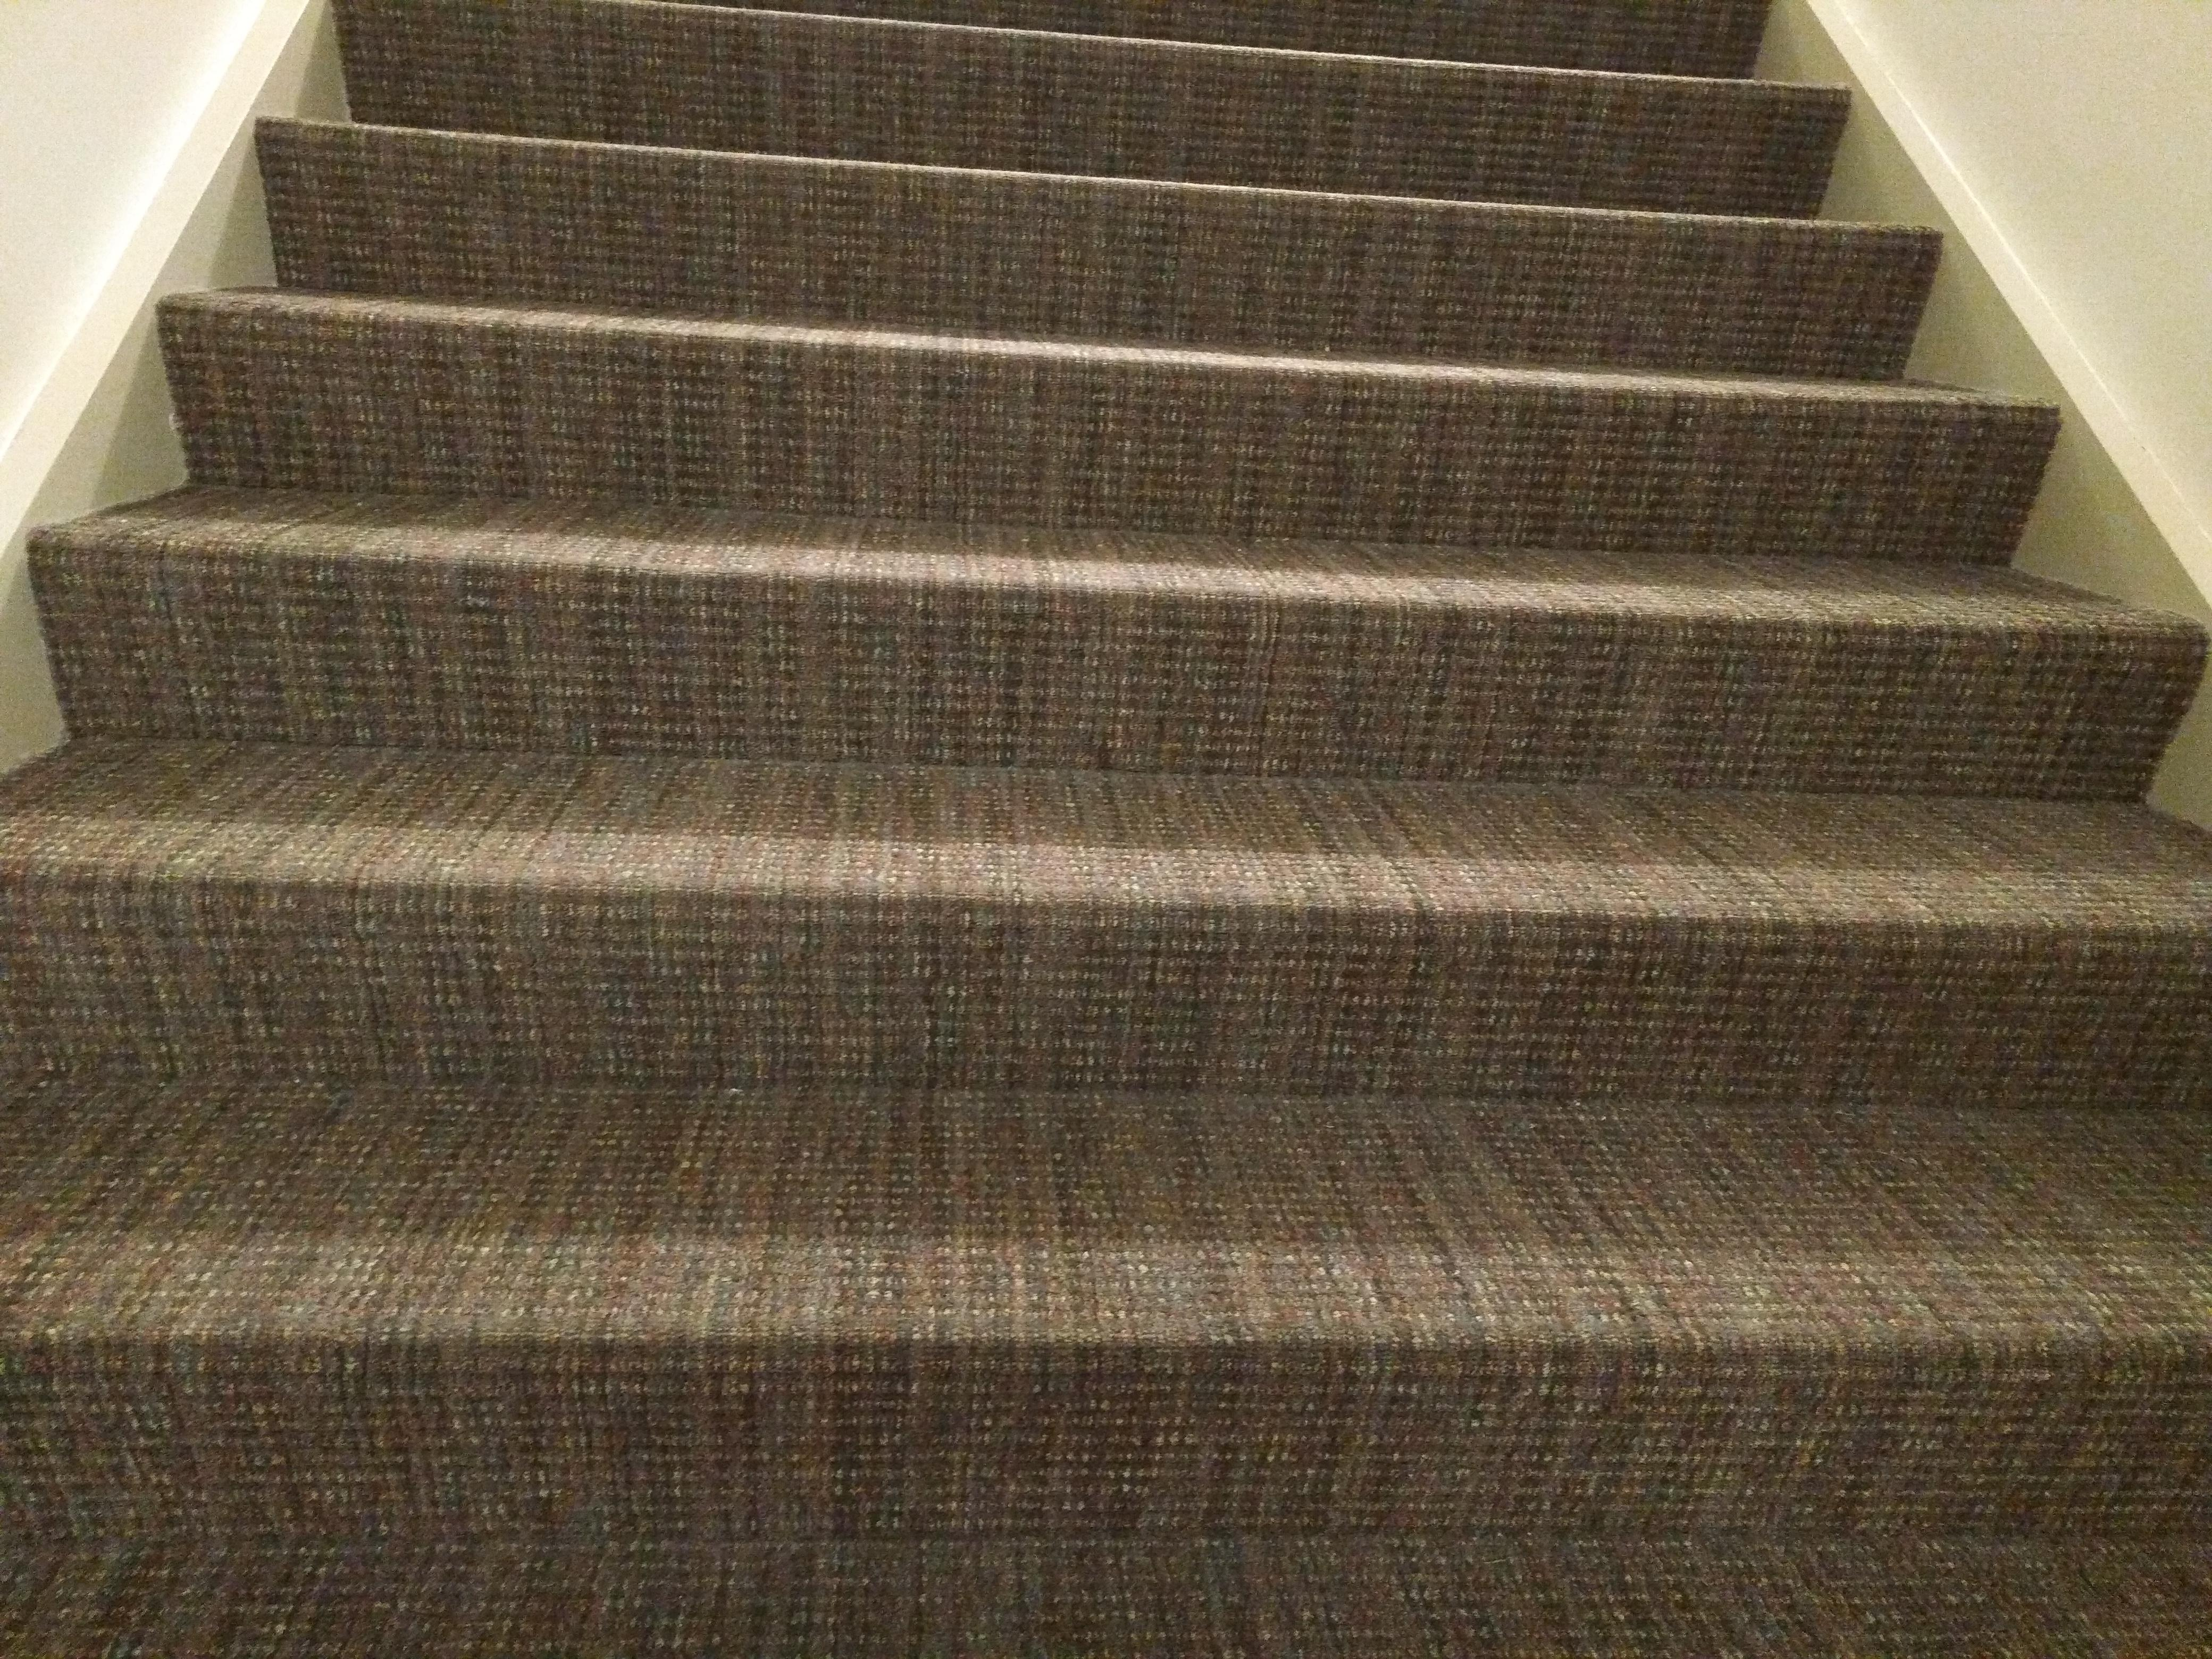stairs_up: (5, 2, 2212, 1516)
